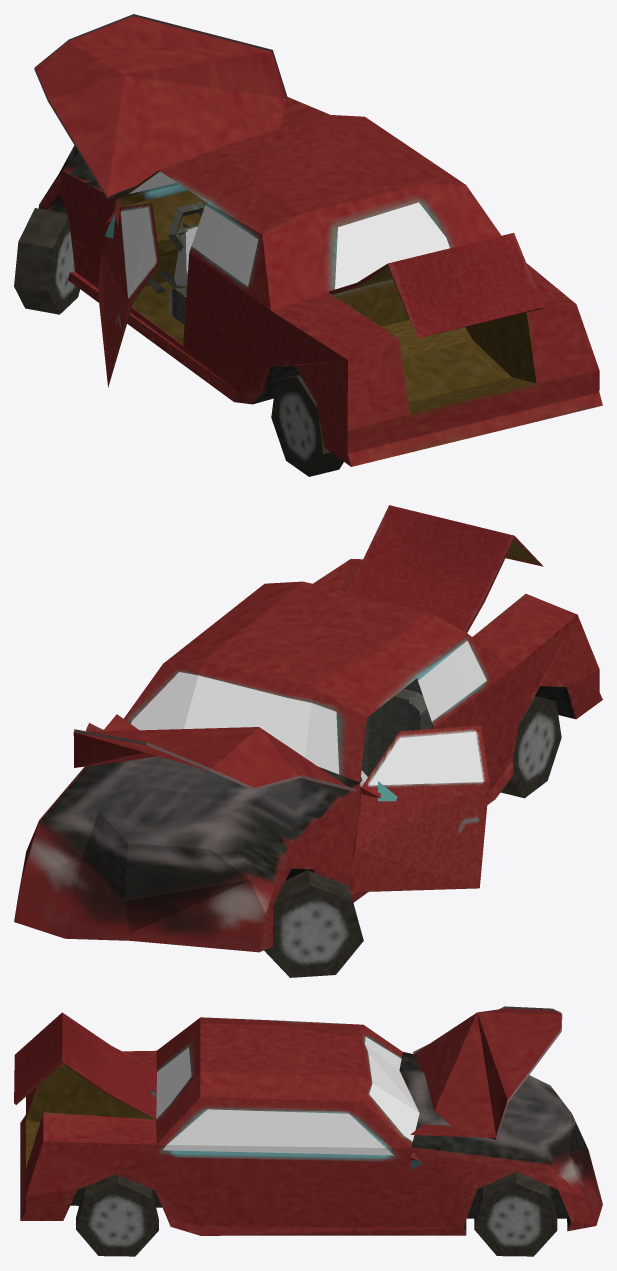
Rendered from carFinished.fbx.
The picture shows the model from 3 angles, top to bottom: view 1: azimuth 30°, elevation 25°; view 2: azimuth 150°, elevation 25°; view 3: azimuth 270°, elevation 25°; orthographic projection. The views are drawn at different scales.
Parts seen in each view (by area): view 1: Broken car, Car.001, door, Cylinder; view 2: Broken car, door, Car.001; view 3: Broken car, Car.001.
Boxes of the visible parts, x1=… form: Broken car: x1=14, y1=14, x2=602, y2=476; Car.001: x1=328, y1=233, x2=543, y2=338; door: x1=97, y1=203, x2=160, y2=387; Cylinder: x1=174, y1=227, x2=197, y2=286; Broken car: x1=14, y1=559, x2=602, y2=977; door: x1=350, y1=725, x2=489, y2=891; Car.001: x1=346, y1=505, x2=543, y2=632; Broken car: x1=20, y1=1006, x2=602, y2=1256; Car.001: x1=14, y1=1012, x2=156, y2=1118.
Bounding box in the file's own units: 2.49 × 1.64 × 4.79.
